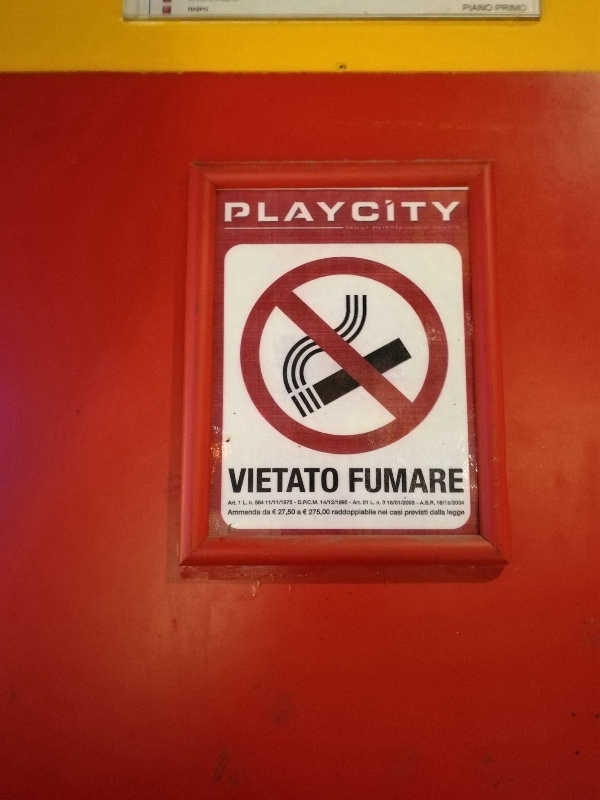text: (225, 198, 240, 225), (241, 198, 256, 225), (257, 198, 272, 225), (273, 198, 288, 225), (289, 198, 304, 225), (305, 198, 320, 225), (321, 198, 336, 225), (337, 198, 352, 225), (353, 198, 368, 225), (369, 198, 384, 225), (385, 198, 400, 225), (401, 198, 416, 225), (417, 198, 432, 225), (433, 198, 448, 225), (449, 198, 464, 225), (241, 467, 256, 494), (257, 467, 272, 494), (273, 467, 288, 494), (289, 467, 304, 494), (305, 467, 320, 494), (321, 467, 336, 494), (353, 468, 368, 494), (369, 468, 384, 494), (385, 468, 400, 494), (401, 468, 416, 494), (417, 468, 432, 494), (433, 468, 448, 494), (449, 468, 464, 494), (228, 467, 240, 494), (449, 509, 465, 517), (337, 509, 352, 517), (353, 509, 368, 517), (449, 499, 465, 506), (241, 509, 256, 516), (354, 499, 368, 506), (370, 499, 384, 506), (433, 509, 446, 516), (405, 509, 416, 517), (417, 509, 428, 517), (349, 468, 352, 494), (243, 500, 256, 506), (437, 499, 448, 506), (309, 509, 320, 516), (273, 500, 288, 505), (321, 500, 336, 505), (305, 500, 319, 505), (401, 500, 415, 505), (230, 509, 240, 516), (421, 500, 432, 506), (387, 500, 400, 505), (279, 509, 288, 516), (321, 509, 330, 516), (390, 509, 400, 515), (369, 509, 376, 517), (337, 500, 348, 505), (337, 467, 339, 494), (263, 509, 272, 515), (230, 501, 240, 506), (289, 509, 296, 516), (417, 502, 432, 505), (257, 500, 264, 506), (378, 509, 384, 515), (265, 500, 272, 505), (297, 510, 304, 515), (298, 500, 304, 505), (257, 509, 261, 516), (273, 509, 277, 515), (333, 509, 336, 517), (289, 500, 293, 505), (294, 502, 304, 504), (385, 509, 388, 515), (430, 509, 432, 516), (433, 500, 435, 506), (305, 509, 307, 515), (401, 509, 403, 515), (447, 509, 448, 517), (385, 499, 386, 506), (303, 509, 304, 515)
